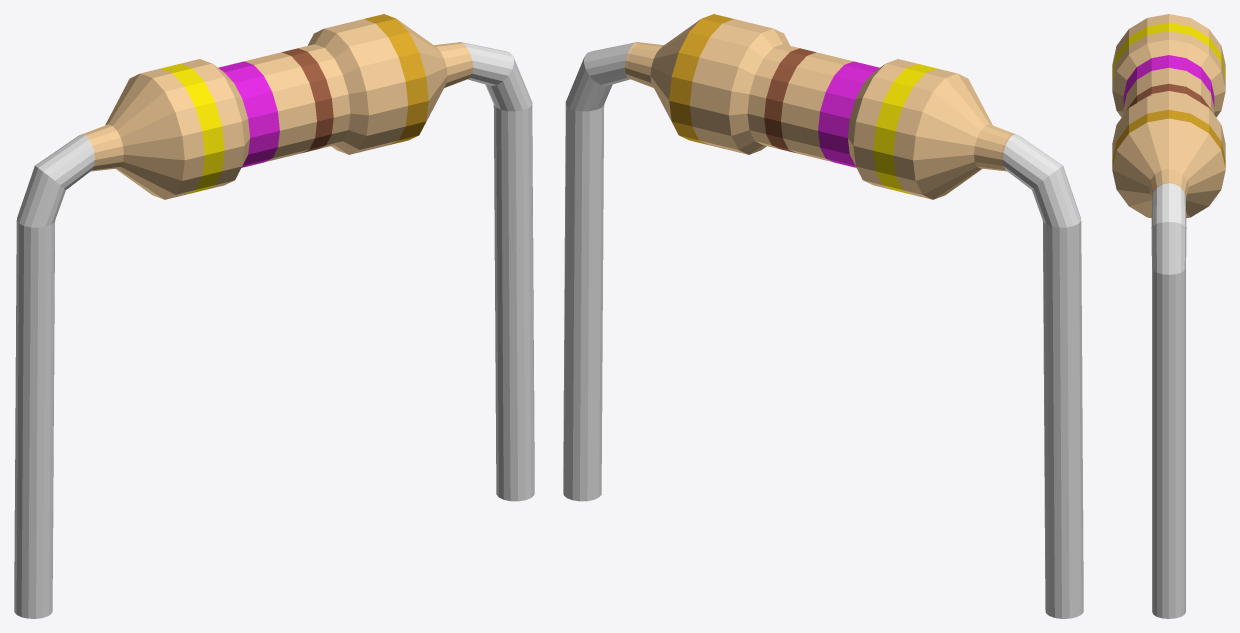
The model's file is 470_ohm_resistor.glb.
3 renders of one model, left to right at view 1: azimuth 30°, elevation 25°; view 2: azimuth 150°, elevation 25°; view 3: azimuth 270°, elevation 25°, orthographic. The views are drawn at different scales.
Parts seen in each view (by area): view 1: Resistor.000; view 2: Resistor.000; view 3: Resistor.000.
Part boxes in pixels (bbox=[...]): Resistor.000: bbox=[14, 14, 534, 618]; Resistor.000: bbox=[563, 14, 1083, 618]; Resistor.000: bbox=[1112, 14, 1225, 618].
Bounding box in the file's own units: 2.76 × 2.58 × 0.6.
